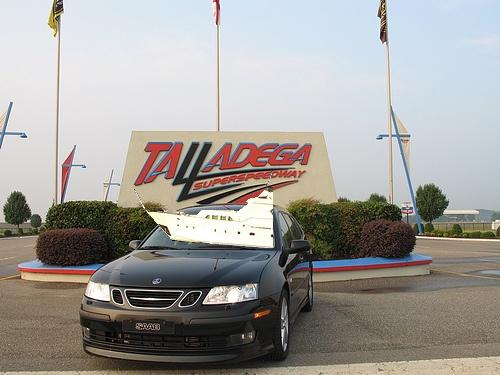tampered: (135, 171, 273, 248)
